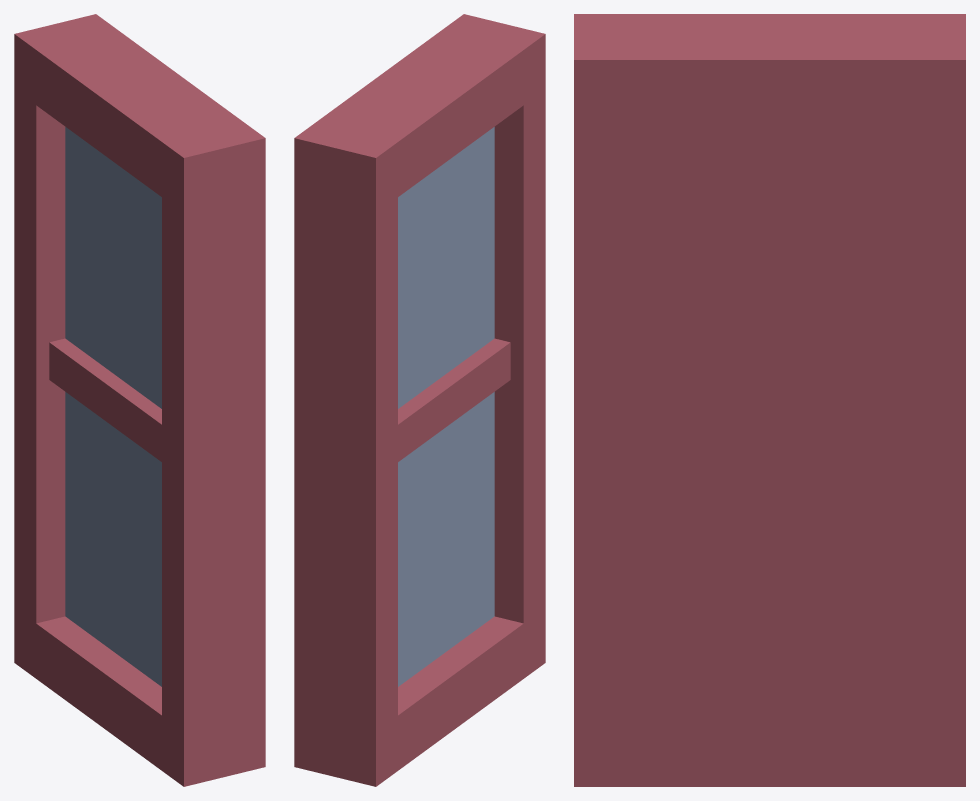
File: Window.fbx
The picture shows the model from 3 angles, left to right: view 1: azimuth 30°, elevation 25°; view 2: azimuth 150°, elevation 25°; view 3: azimuth 270°, elevation 25°; orthographic projection. The views are drawn at different scales.
Visible parts, largest first — view 1: Cube.575; view 2: Cube.575; view 3: Cube.575.
Part boxes in pixels (x1=…): Cube.575: x1=14, y1=14, x2=265, y2=786; Cube.575: x1=294, y1=14, x2=545, y2=786; Cube.575: x1=574, y1=14, x2=965, y2=786.
Size of the model in its own units: 19.65 by 145 by 70.64.
